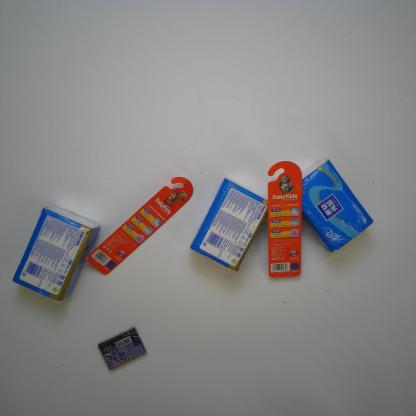Gum: (94, 322, 150, 372)
Personal Hygiene: (84, 174, 199, 278), (264, 159, 305, 281)
Tissue: (12, 202, 104, 306), (189, 175, 270, 276), (296, 156, 376, 252)
